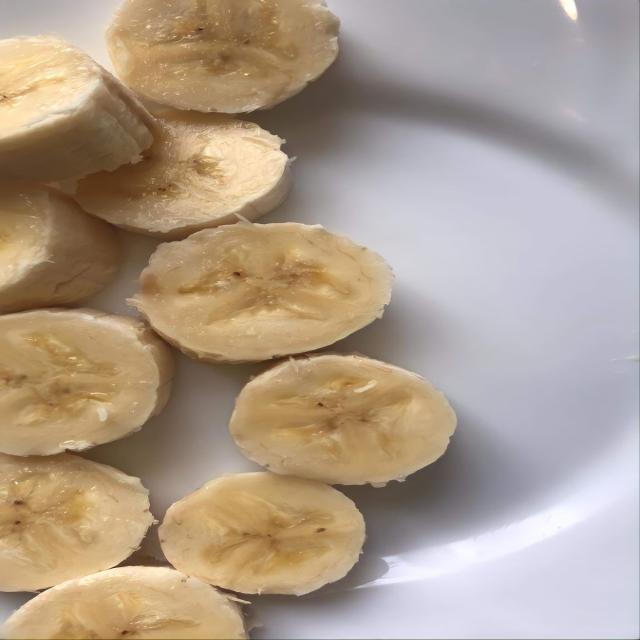banana slice: (132, 222, 392, 362), (230, 355, 455, 485), (75, 110, 290, 239), (107, 0, 338, 113), (0, 309, 173, 455), (159, 472, 364, 594), (0, 36, 152, 181), (0, 454, 152, 591), (0, 567, 246, 639), (0, 182, 118, 313)
